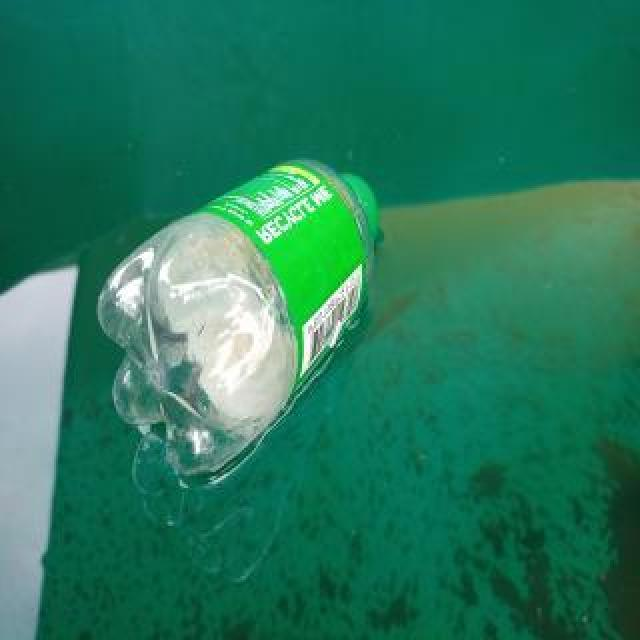Bottle: (92, 151, 380, 483)
